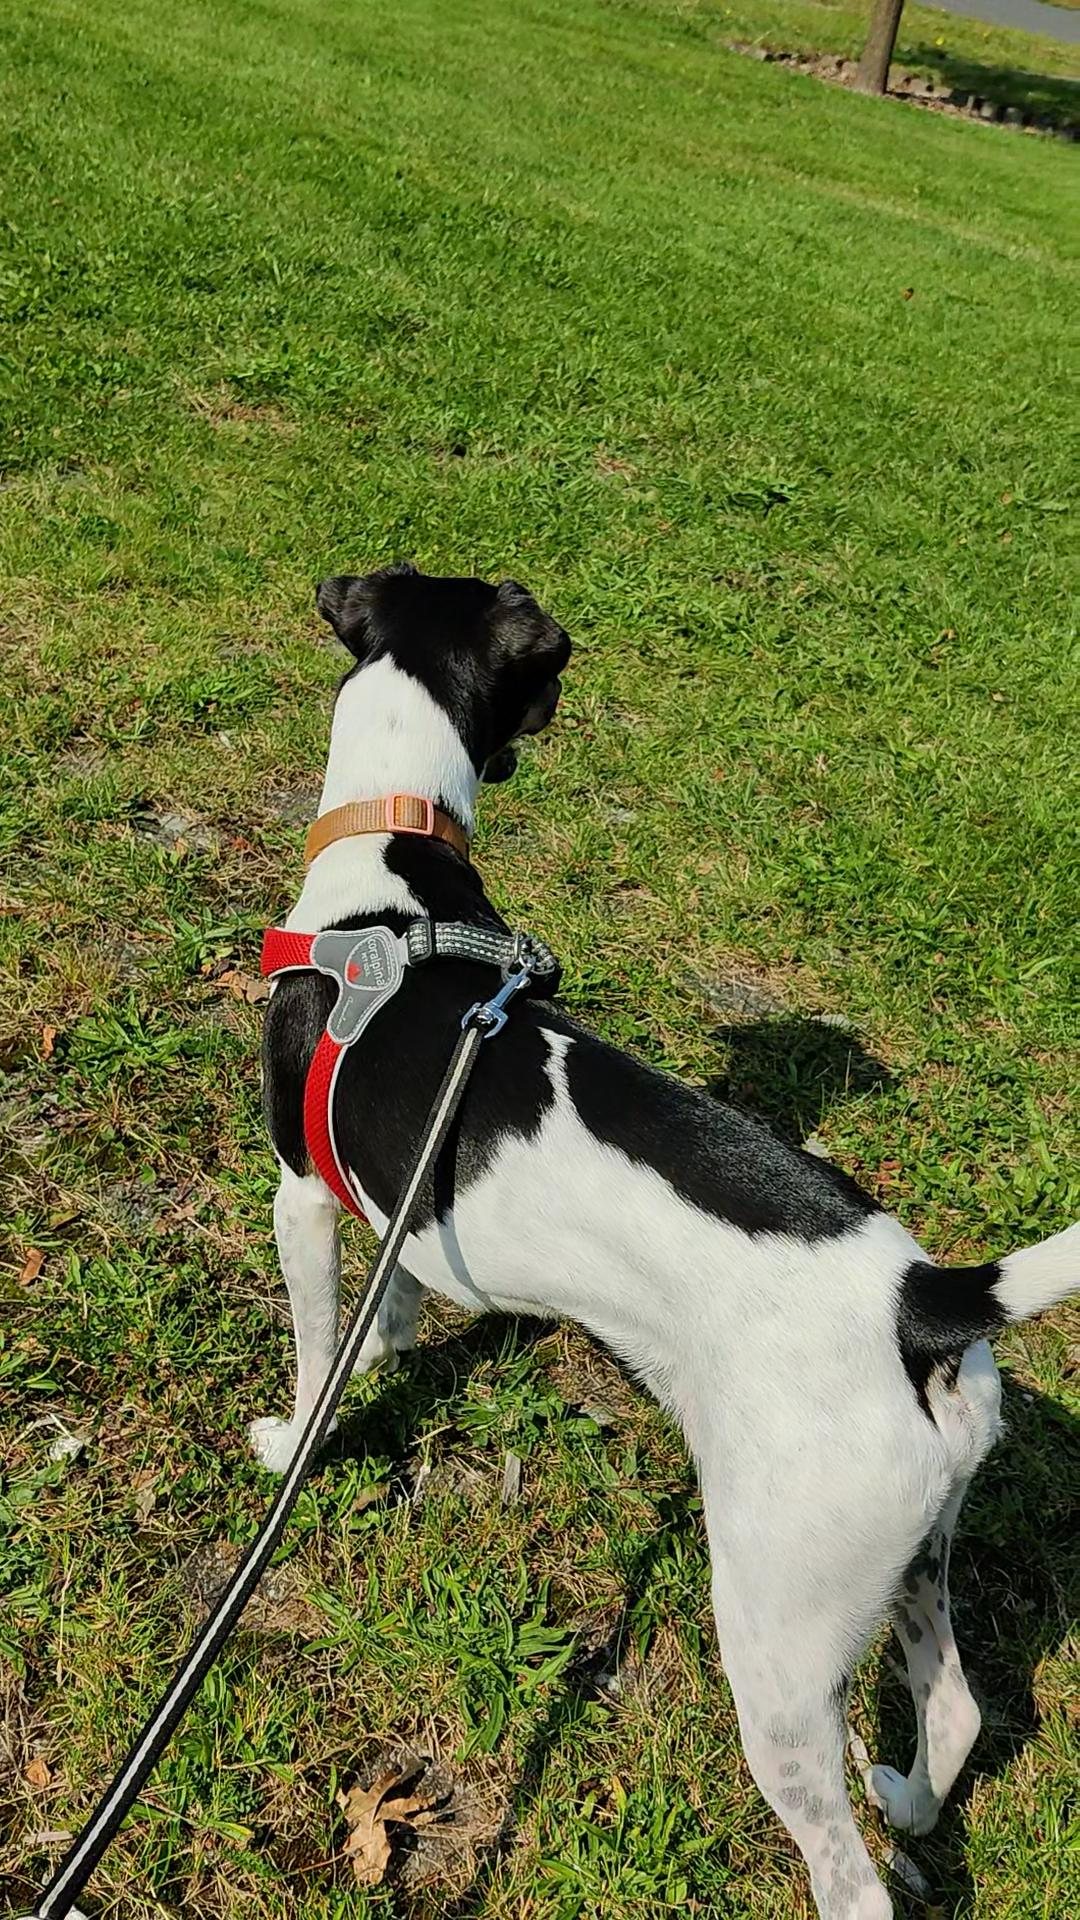Dog: (233, 555, 1079, 1919)
